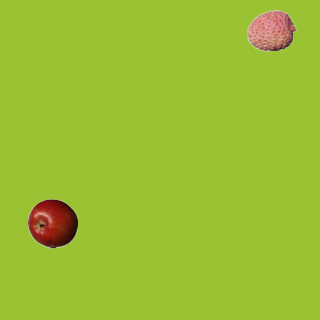Apple Braeburn: (27, 198, 77, 248)
Lychee: (246, 5, 296, 55)
